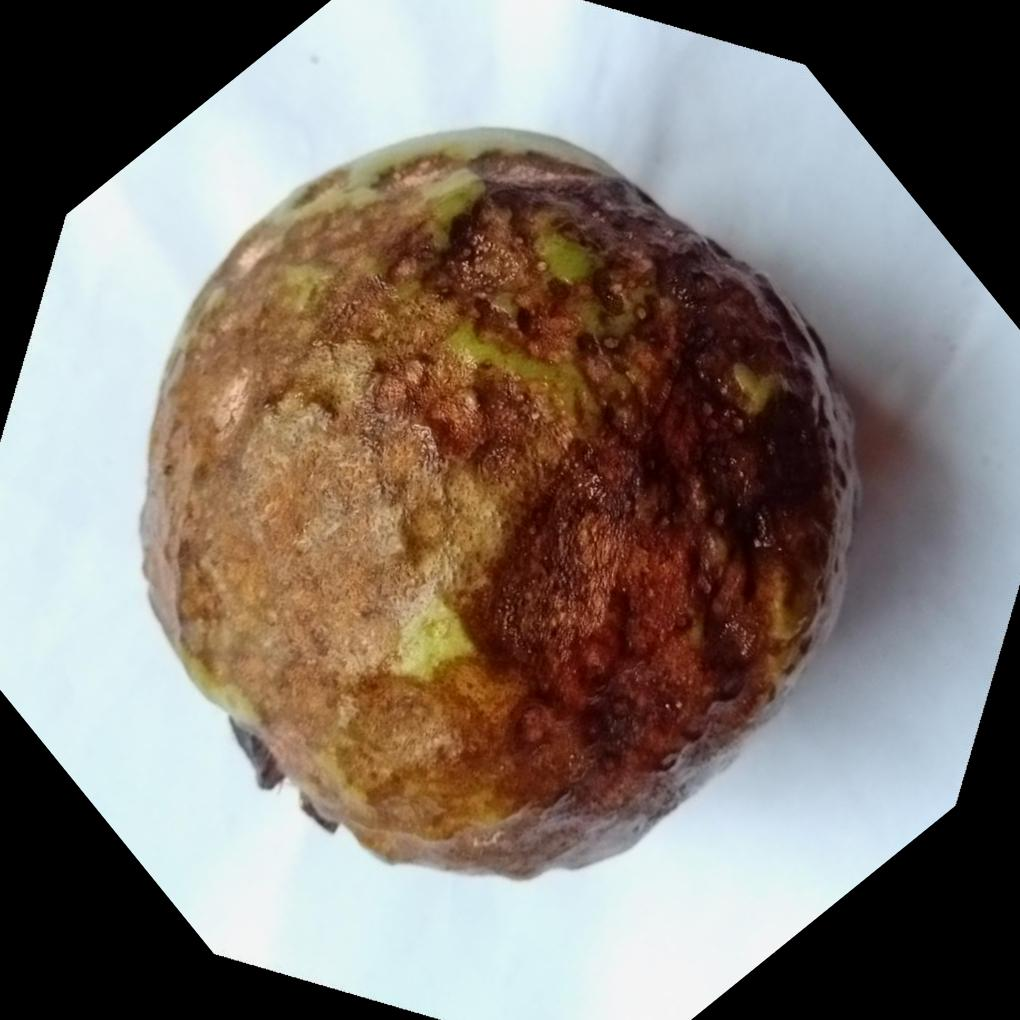FreshOrange: (137, 121, 862, 881)
